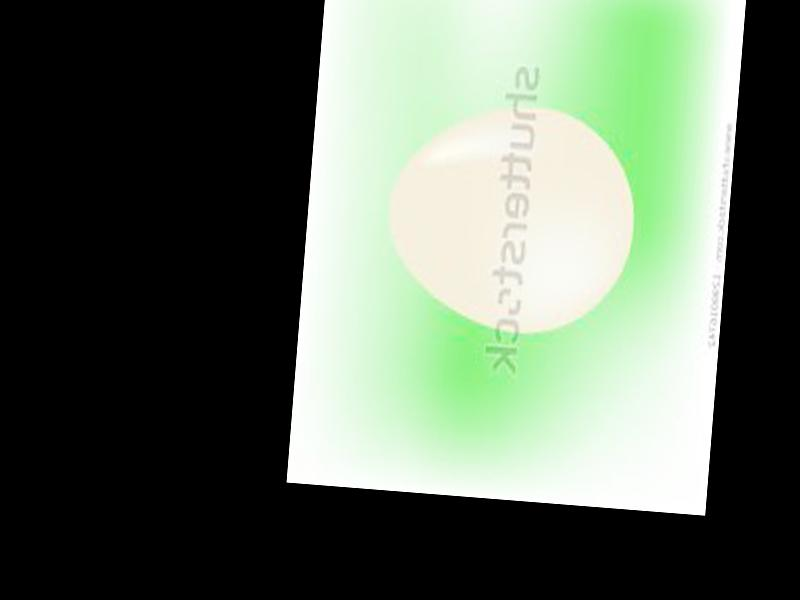Eggs: (380, 97, 641, 341)
